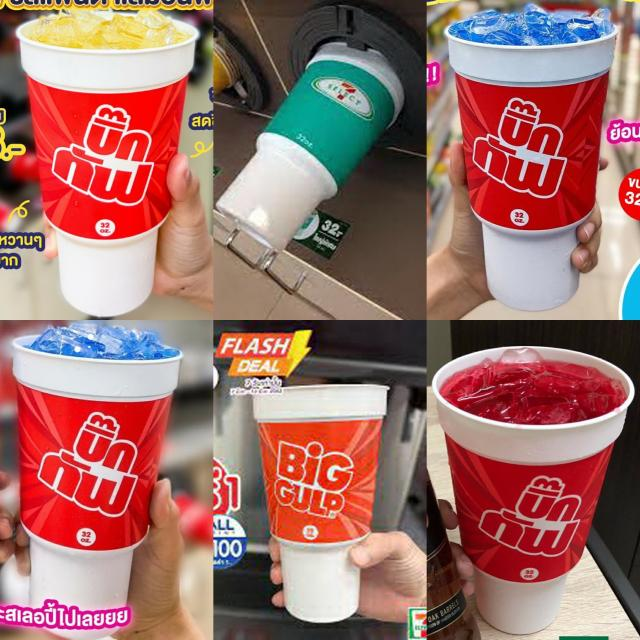Single-Use-Plastic: (432, 347, 634, 634), (16, 21, 198, 316), (14, 337, 181, 637), (448, 29, 618, 310), (216, 41, 404, 250), (254, 384, 388, 623)
